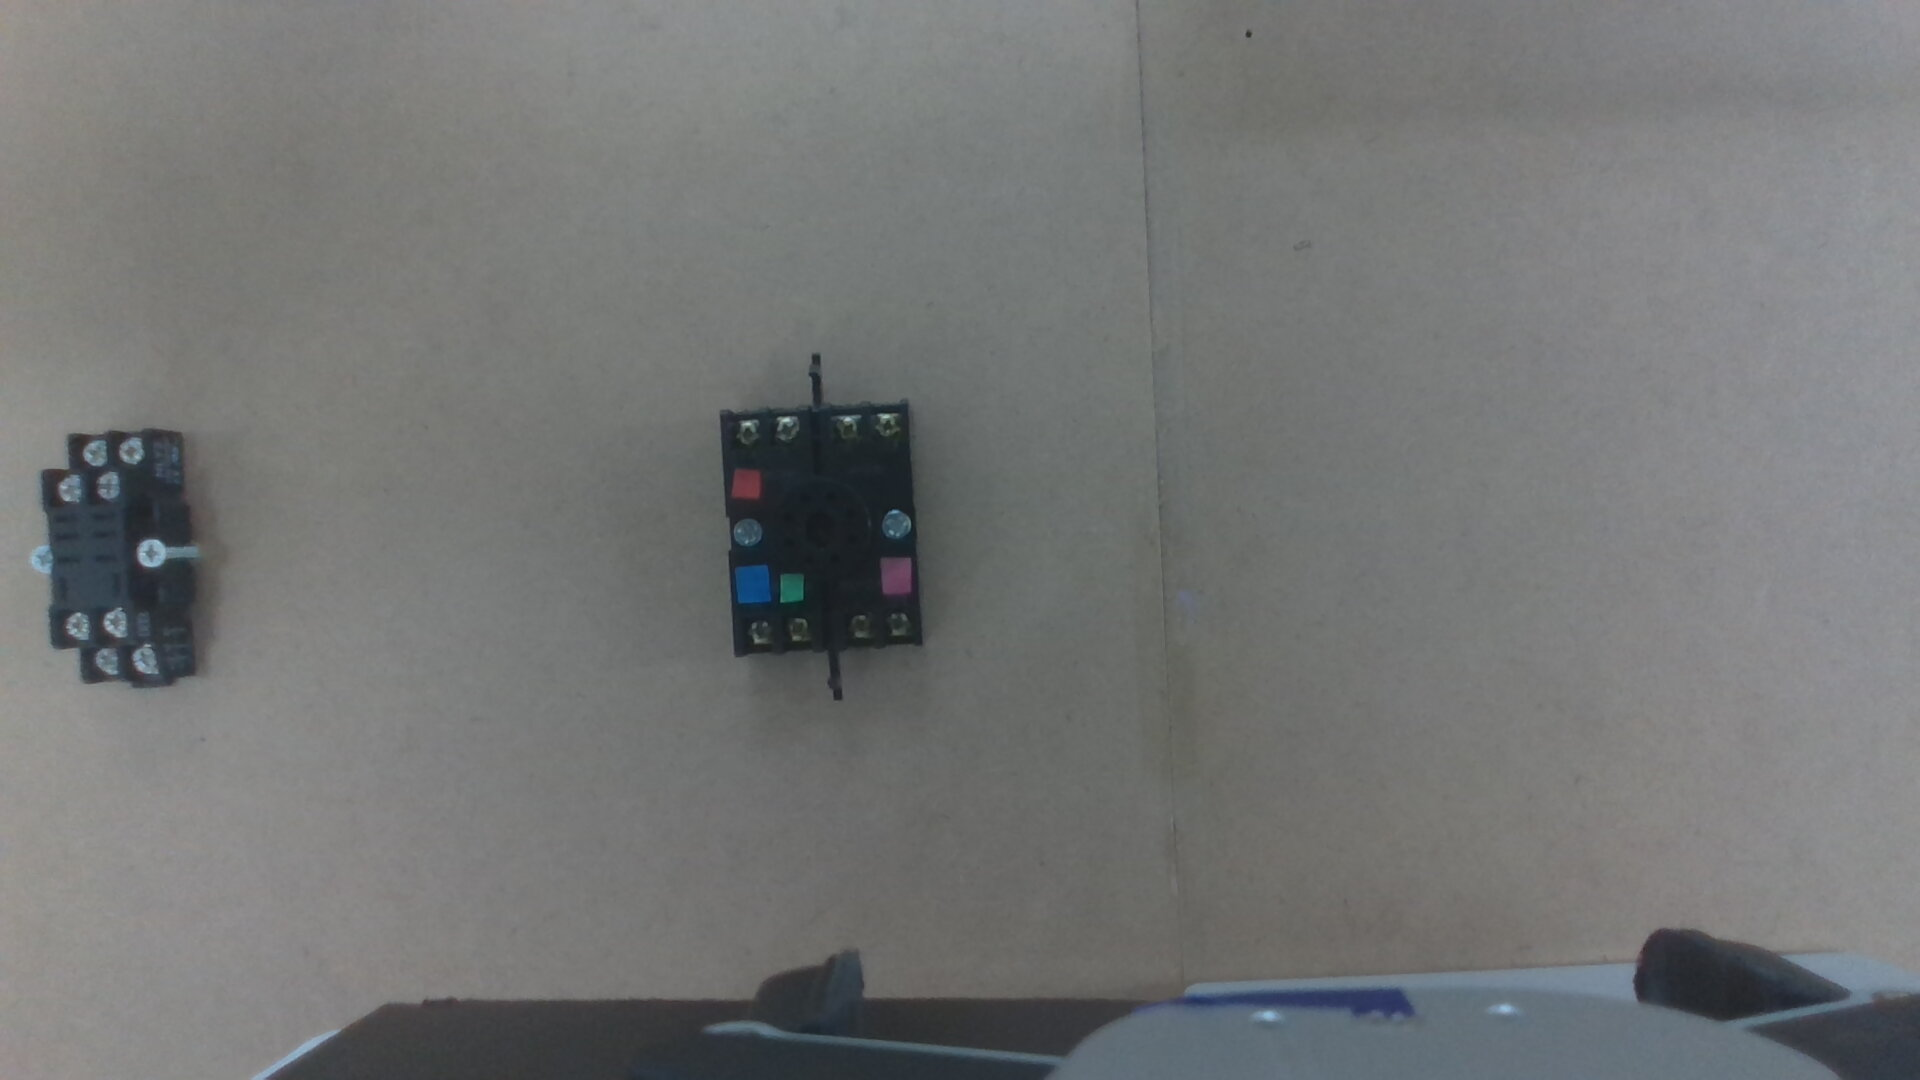timer 2: (884, 612, 910, 637)
timer 6: (731, 421, 760, 446)
timer 7: (741, 618, 771, 647)
timer 8: (782, 616, 810, 644)
